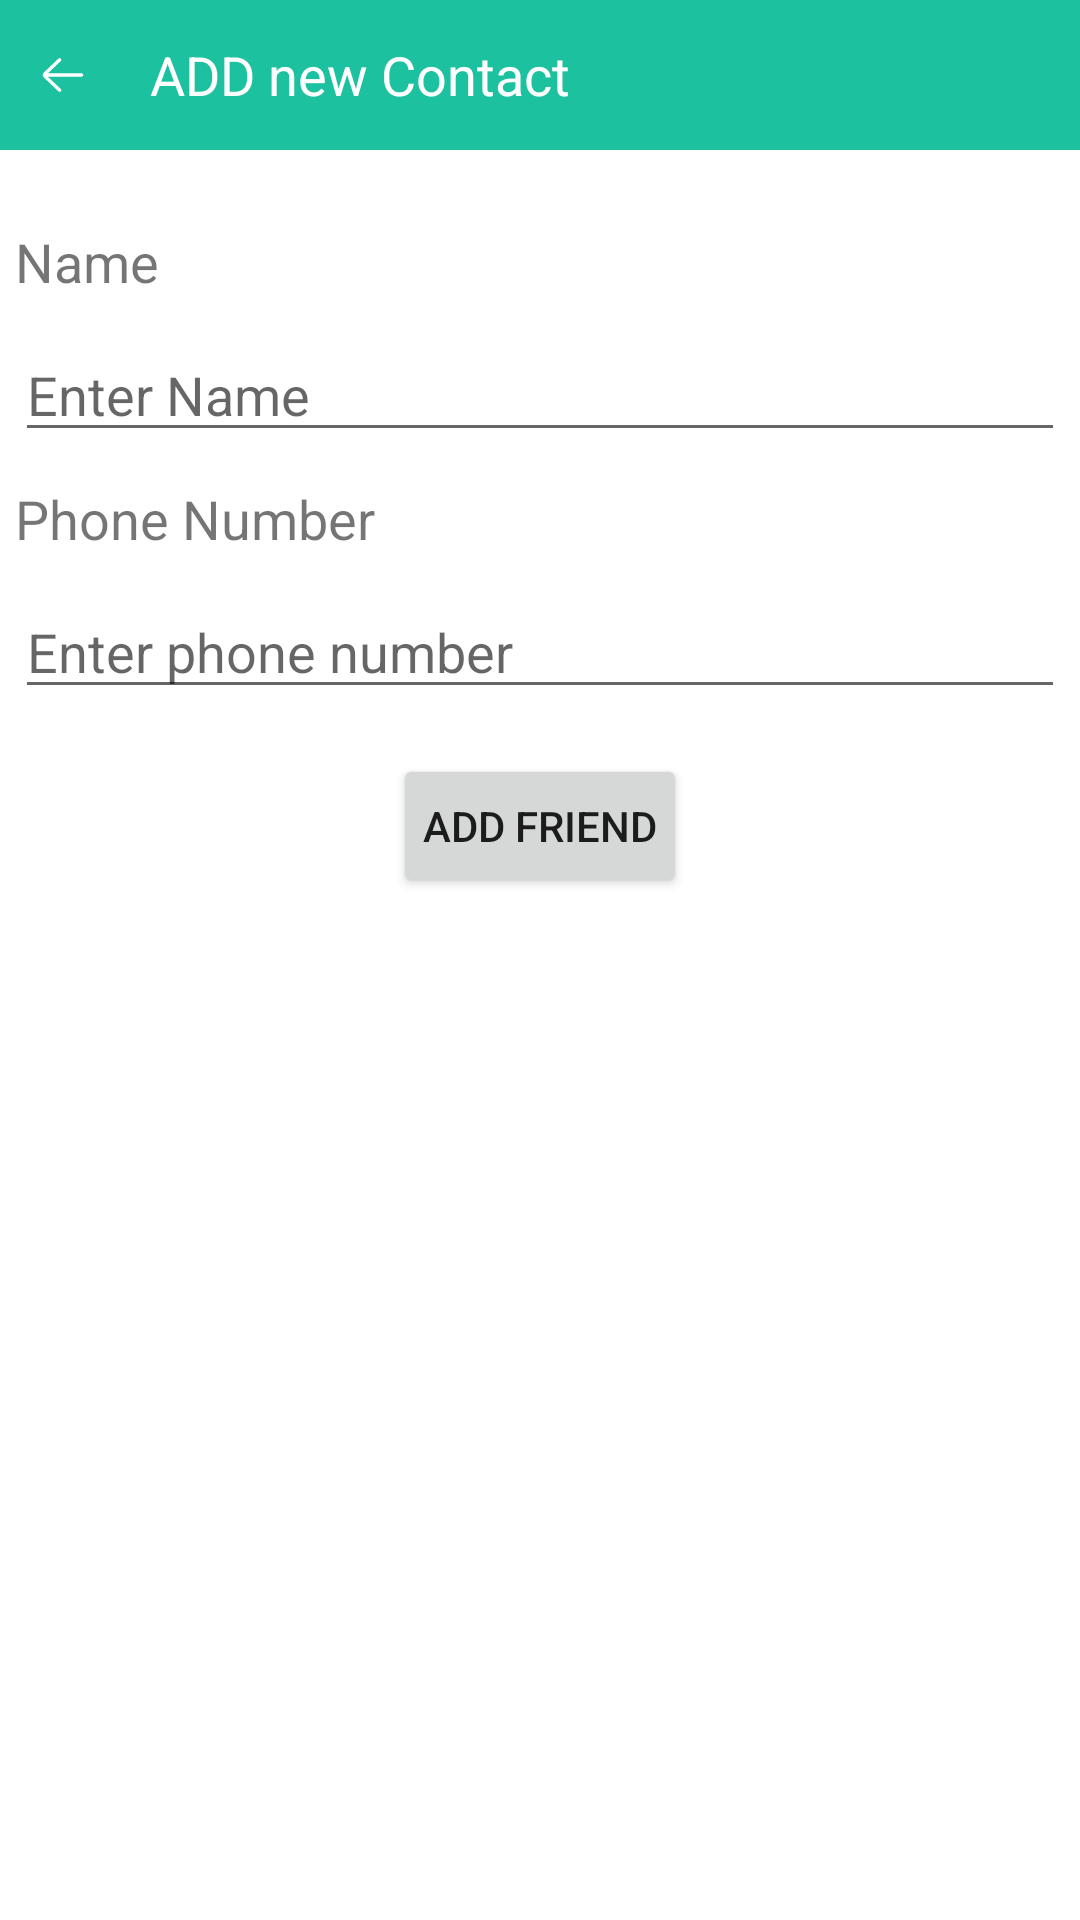

Icons on this 1080w x 1920h Android screen, each with the point to tap as (x=x, y=y):
left arrow: (x=63, y=75)
